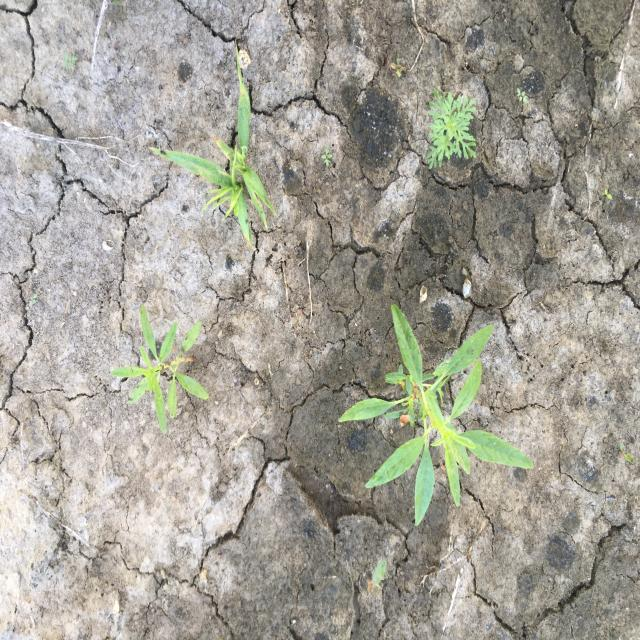Ragweed: (424, 88, 480, 168)
Waterhemp: (336, 303, 536, 528), (108, 303, 209, 435)
